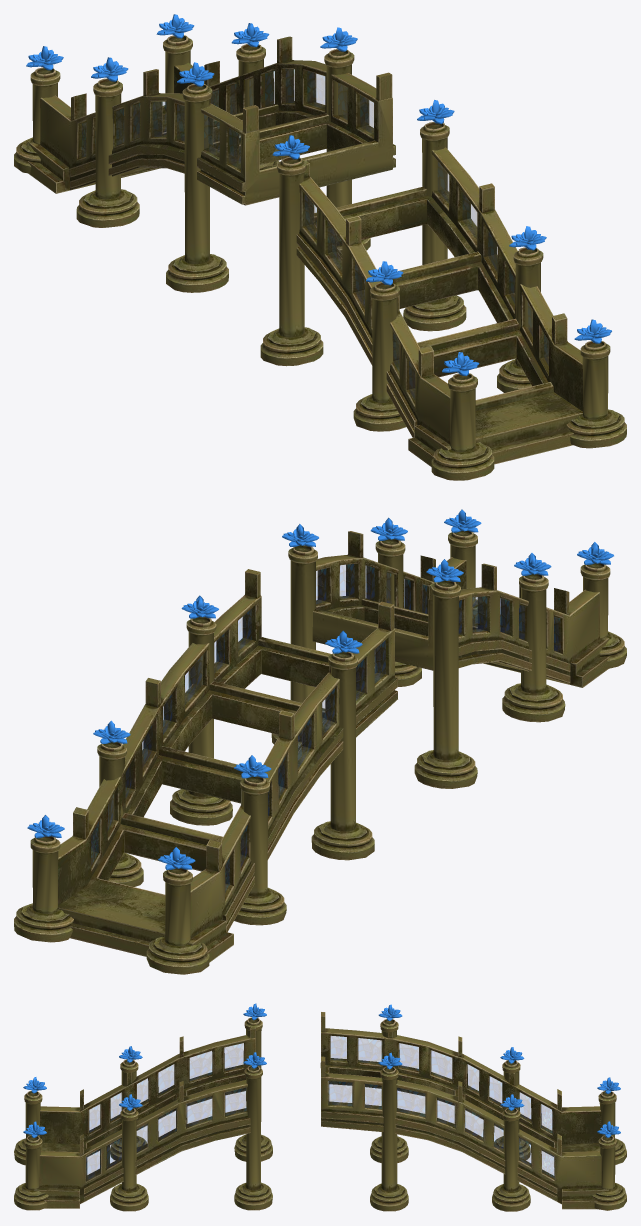
The model's file is bridgeBrokenNoGlass_lowPolyCompressed.glb.
3 renders of one model, top to bottom at view 1: azimuth 30°, elevation 25°; view 2: azimuth 150°, elevation 25°; view 3: azimuth 270°, elevation 25°, orthographic. The views are drawn at different scales.
Visible parts, largest first — view 1: Mesh_168.006; view 2: Mesh_168.006; view 3: Mesh_168.006.
Boxes of the visible parts, bbox=[...] form: Mesh_168.006: bbox=[14, 14, 626, 480]; Mesh_168.006: bbox=[14, 509, 626, 974]; Mesh_168.006: bbox=[14, 1003, 626, 1211].
Size of the model in its own units: 1.36 by 1.39 by 5.14.
5 materials, 4 textured.
